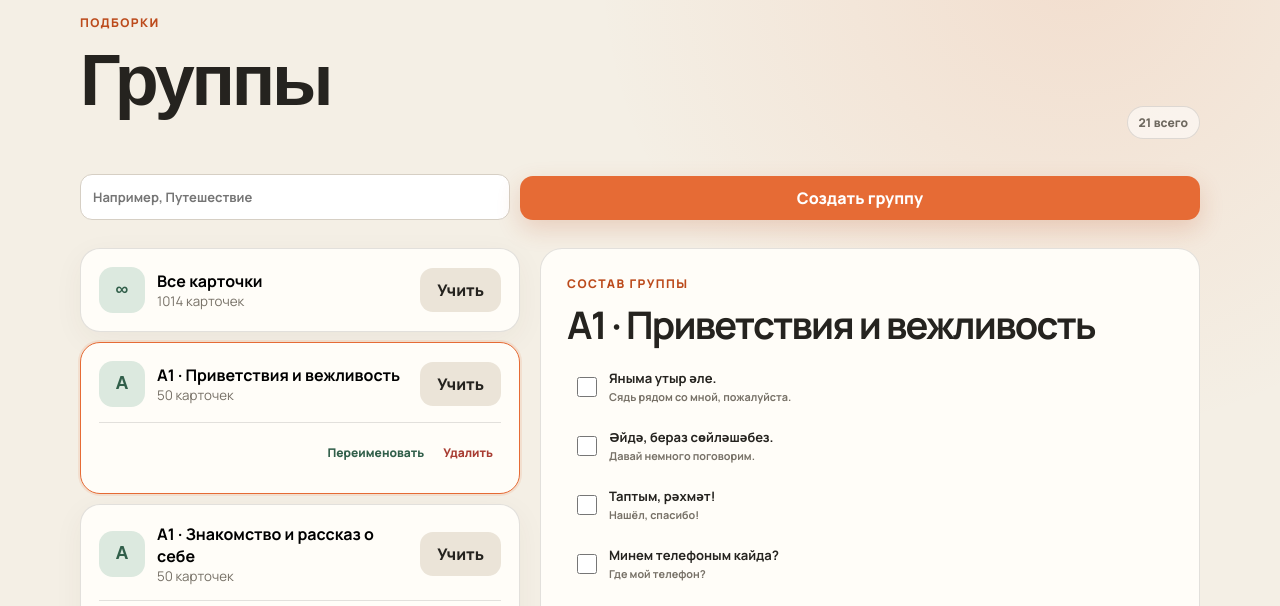
Test: GroupsPage › creates a group, rejects duplicate normalized name, and changes membership
The image size is (1280, 606).
Type "Фразы" into the field with placeholder "Например, Путешествие".
click(295, 197); type("Фразы")  # box 80,174 -> 510,220
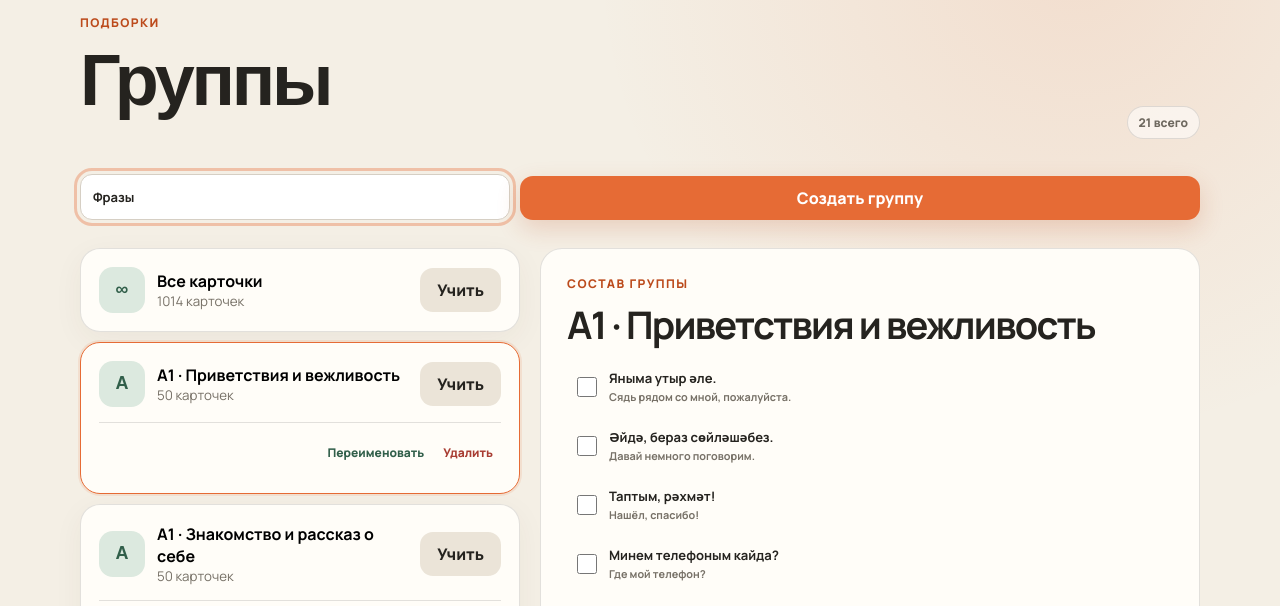
Click the button "Создать группу".
click(860, 198)  # box 520,176 -> 1200,220
(page scrolled)
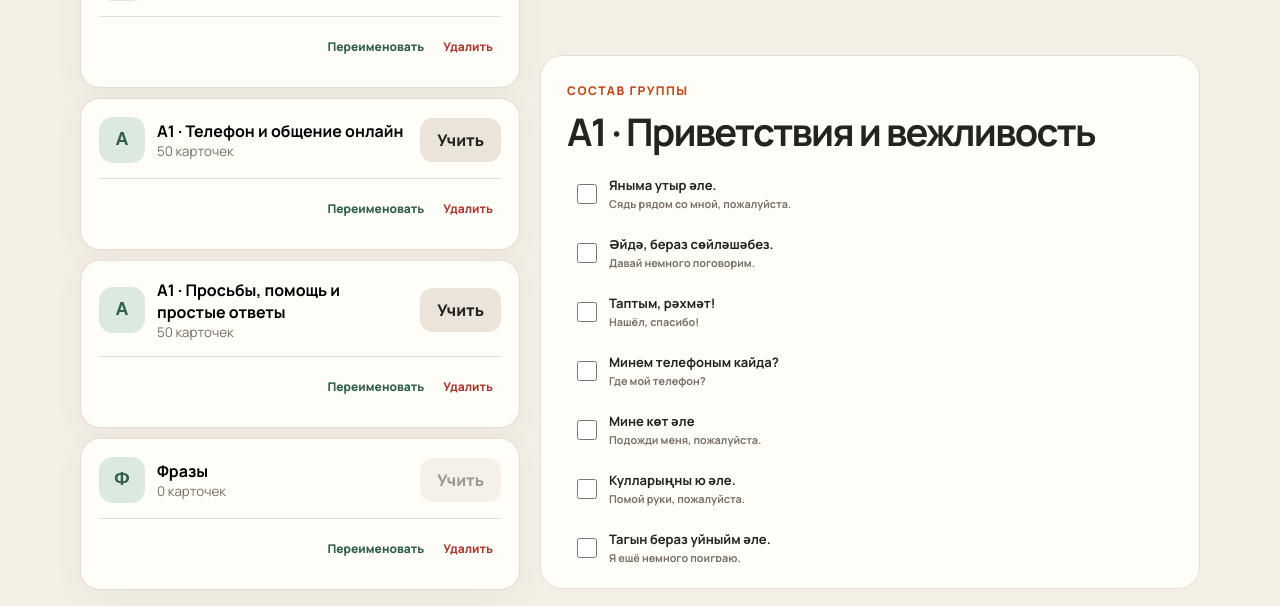
Click the button "Ф Фразы 0 карточек".
click(122, 480)  # box 99,457 -> 405,503
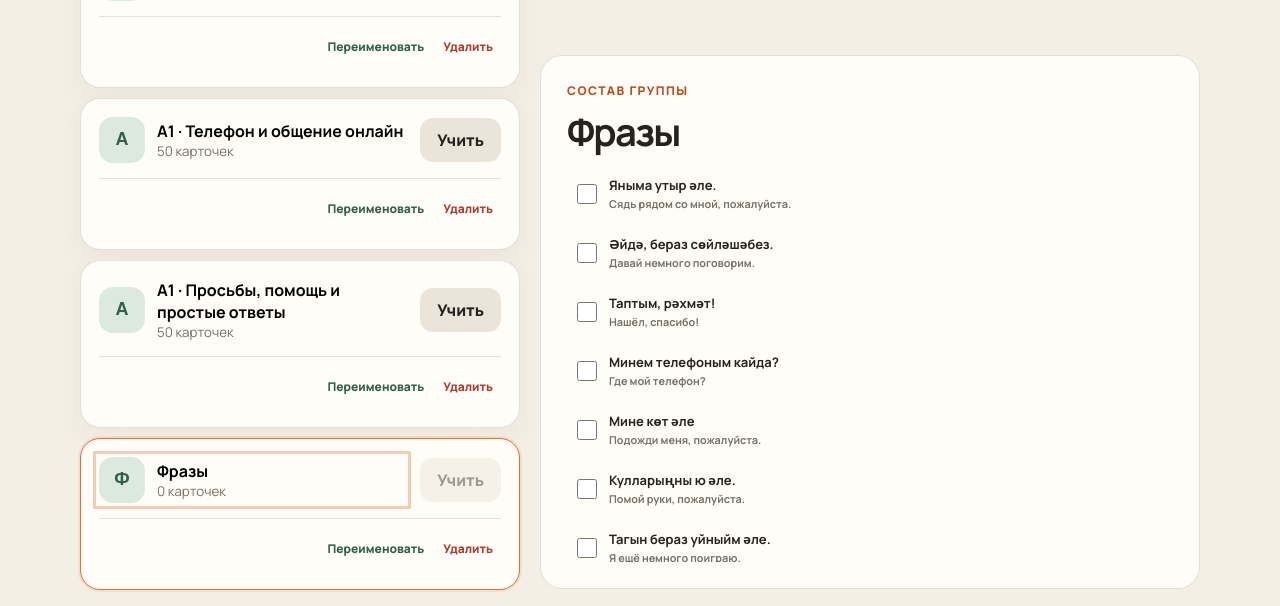
Expected: the element "Фразы" is shown, 540,55 -> 1200,590
Click the checkbox labelled "Яныма утыр әле. Сядь рядом со мной, пожалуйста.".
click(587, 194)  # box 577,184 -> 597,204
(page scrolled)
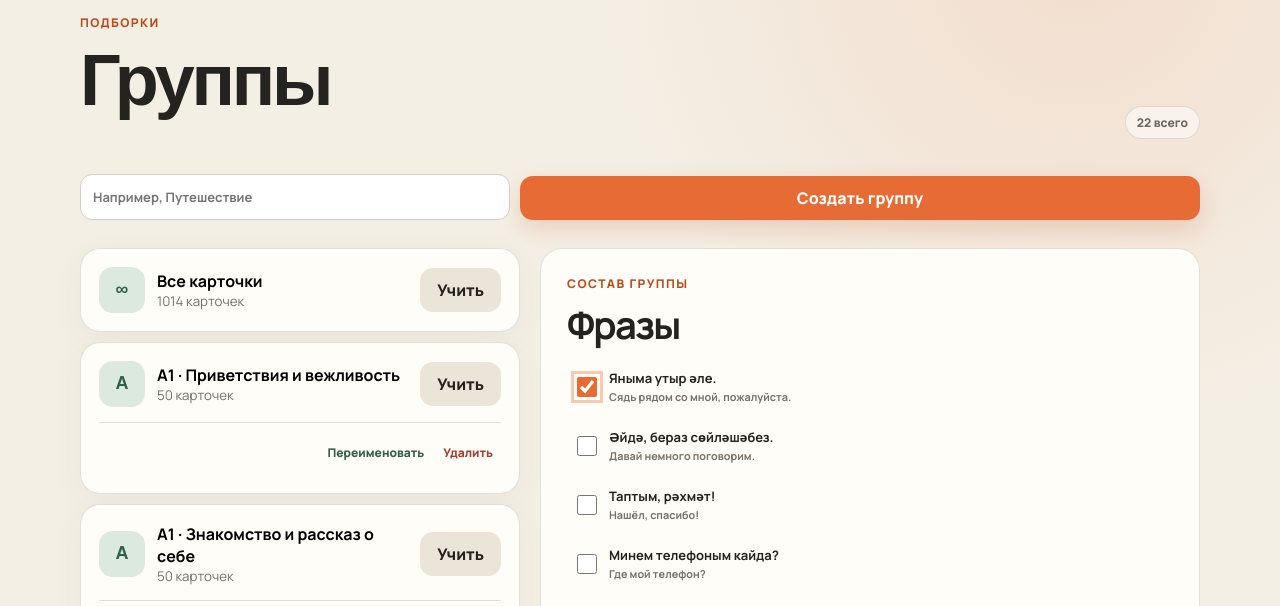
Expected: the checkbox labelled "Яныма утыр әле. Сядь рядом со мной, пожалуйста." is checked, 577,377 -> 597,397
Type " фразы " into the field with placeholder "Например, Путешествие".
click(295, 197); type(" фразы ")  # box 80,174 -> 510,220
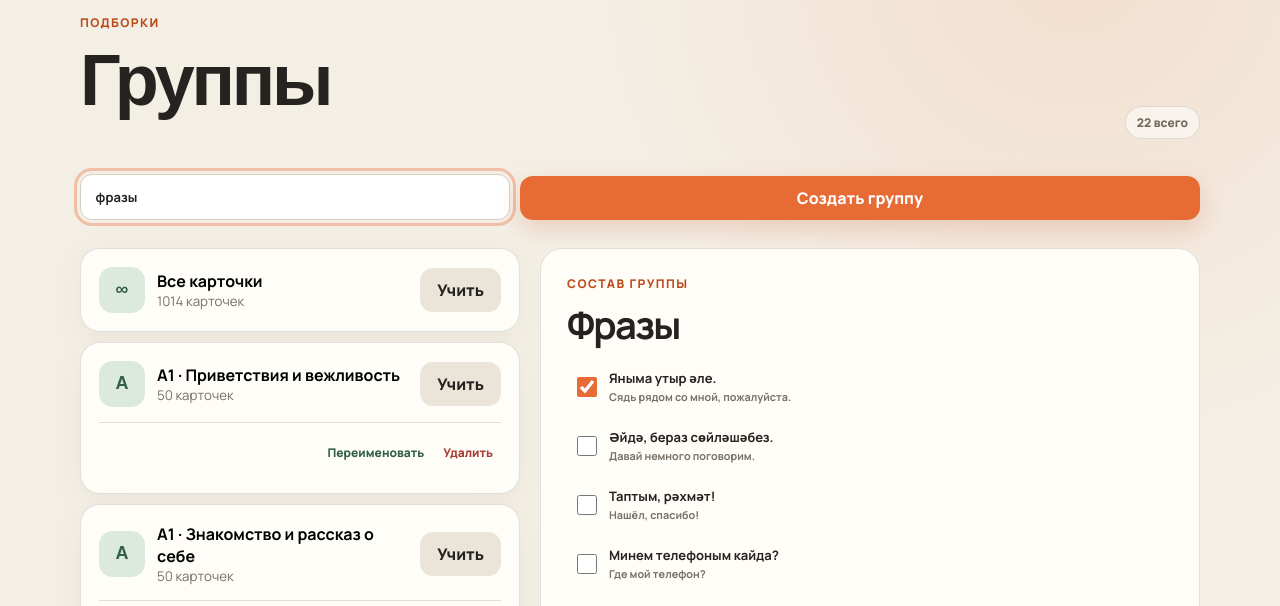
Click the button "Создать группу".
click(860, 198)  # box 520,176 -> 1200,220
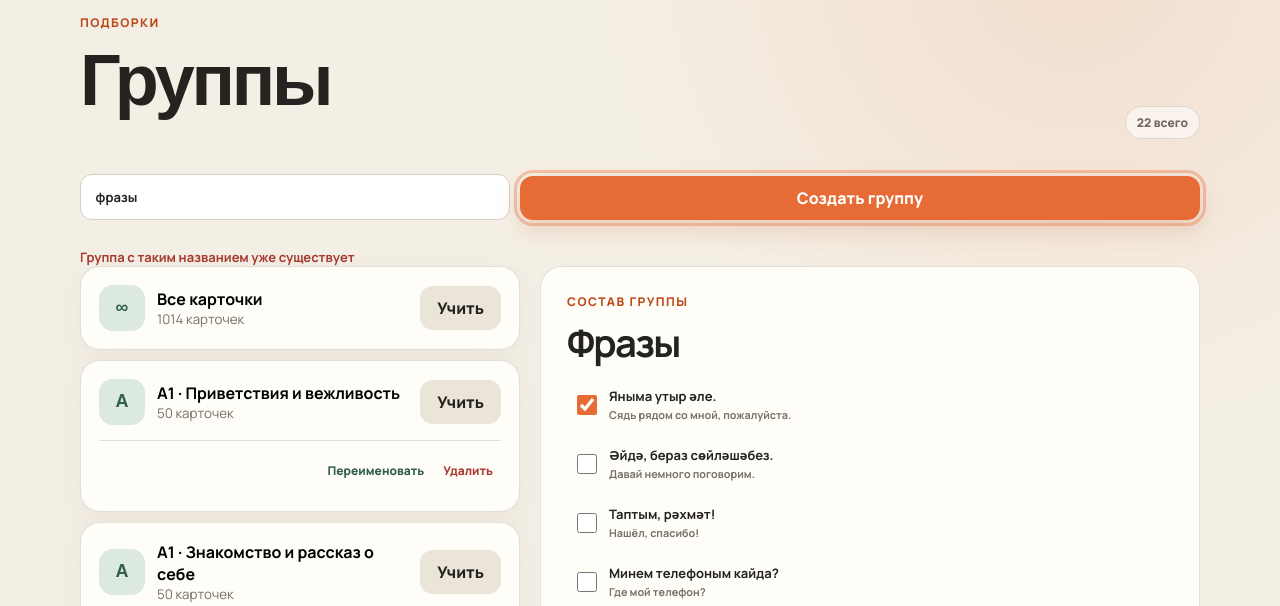
Expected: the message shows "уже существует", 80,248 -> 355,266
